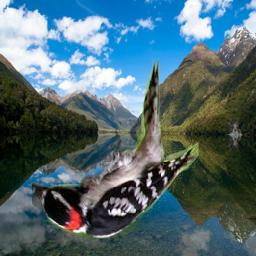Woodpecker: (33, 59, 200, 240)
